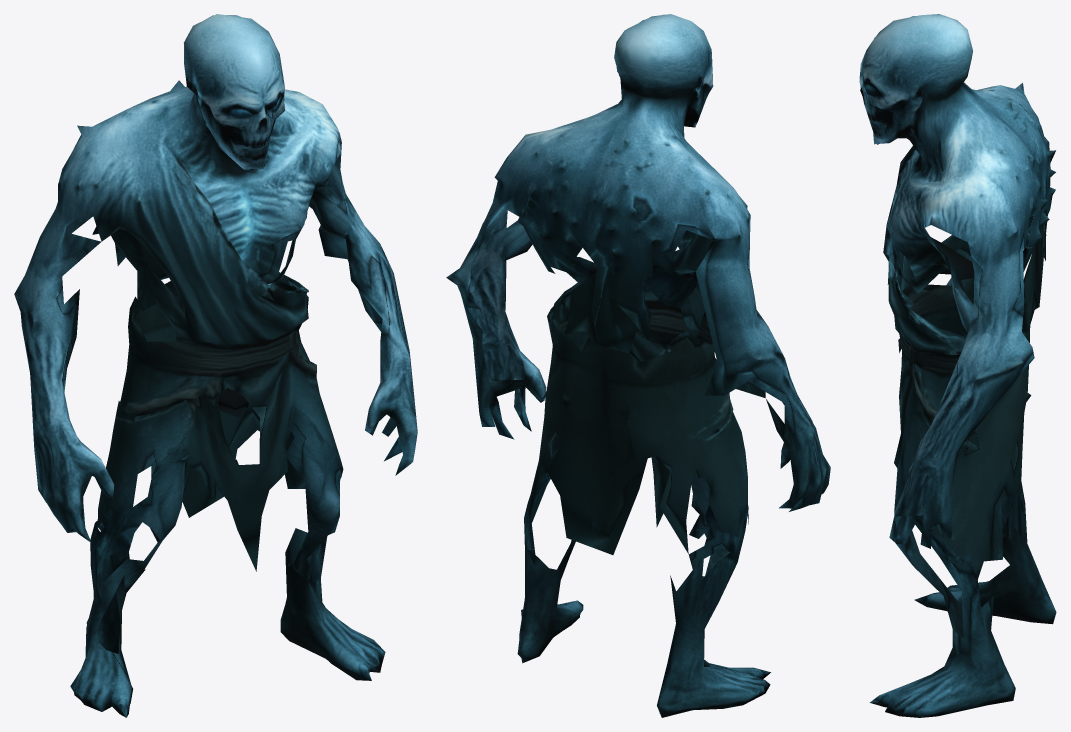
Rendered from rime-ghoul.glb.
The picture shows the model from 3 angles, left to right: view 1: azimuth 30°, elevation 25°; view 2: azimuth 150°, elevation 25°; view 3: azimuth 270°, elevation 25°; orthographic projection. The views are drawn at different scales.
Visible parts, largest first — view 1: geometry_0; view 2: geometry_0; view 3: geometry_0.
Boxes of the visible parts, bbox=[...] form: geometry_0: bbox=[14, 14, 417, 717]; geometry_0: bbox=[446, 14, 830, 717]; geometry_0: bbox=[859, 14, 1056, 717].
Bounding box in the file's own units: 0.5616 × 0.9945 × 0.278.
1 material, 1 textured.
